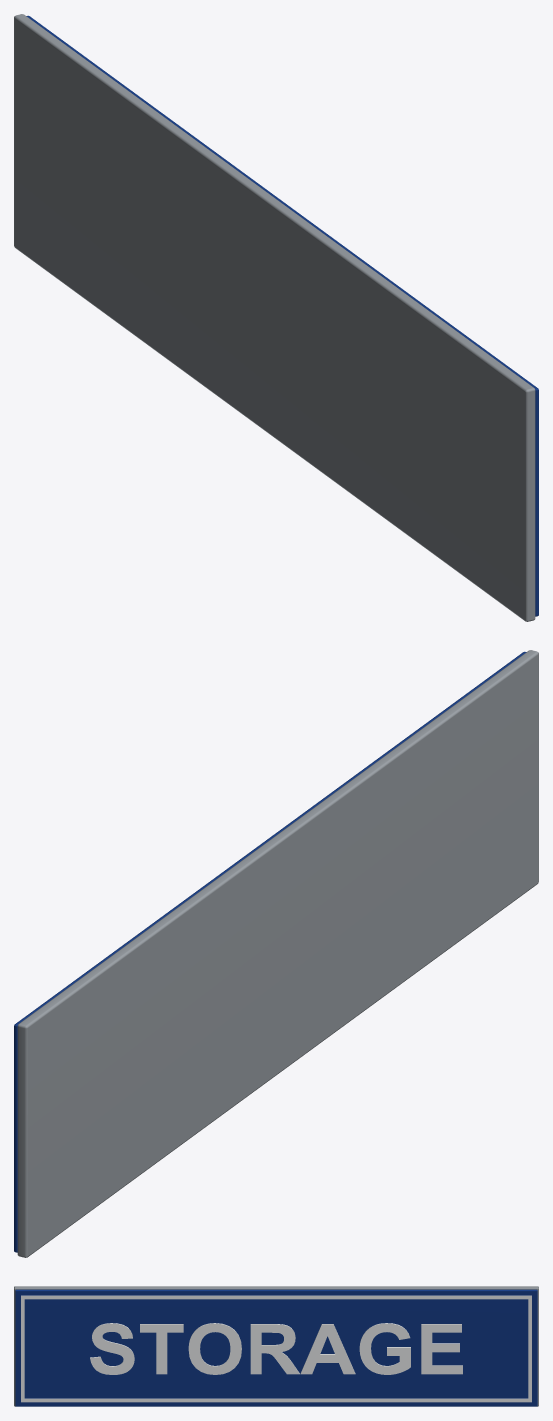
Rendered from sign_storage.glb.
3 views of the same model, one above another, from view 1: azimuth 30°, elevation 25°; view 2: azimuth 150°, elevation 25°; view 3: azimuth 270°, elevation 25° (orthographic). The views are drawn at different scales.
Parts seen in each view (by area): view 1: sign_storage; view 2: sign_storage; view 3: sign_storage.
Part boxes in pixels (left/top/right/bottom): sign_storage: left=14, top=14, right=538, bottom=621; sign_storage: left=14, top=650, right=538, bottom=1257; sign_storage: left=14, top=1286, right=538, bottom=1406.
Bounding box in the file's own units: 0.0225 × 0.3 × 1.2.
